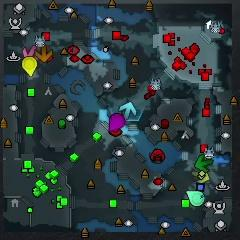p2: (186, 190, 205, 206)
p3: (110, 113, 125, 132)
p4: (22, 56, 37, 76)
x1: (23, 45, 38, 59)
x2: (191, 170, 210, 184)
x3: (120, 102, 136, 120)
x4: (195, 155, 213, 172)
x5: (35, 46, 52, 62)
